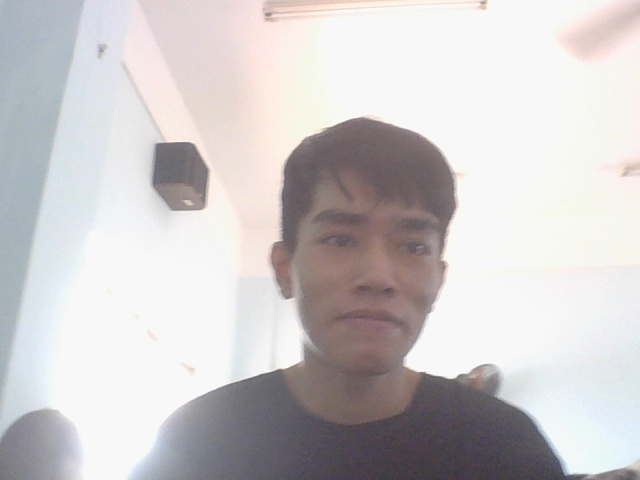real: (269, 104, 469, 387)
